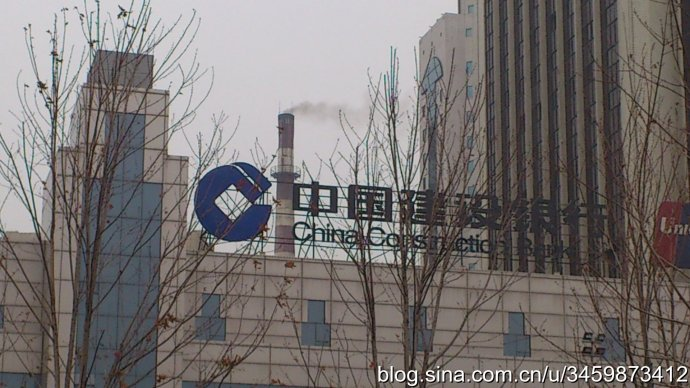dust: (267, 87, 364, 129)
